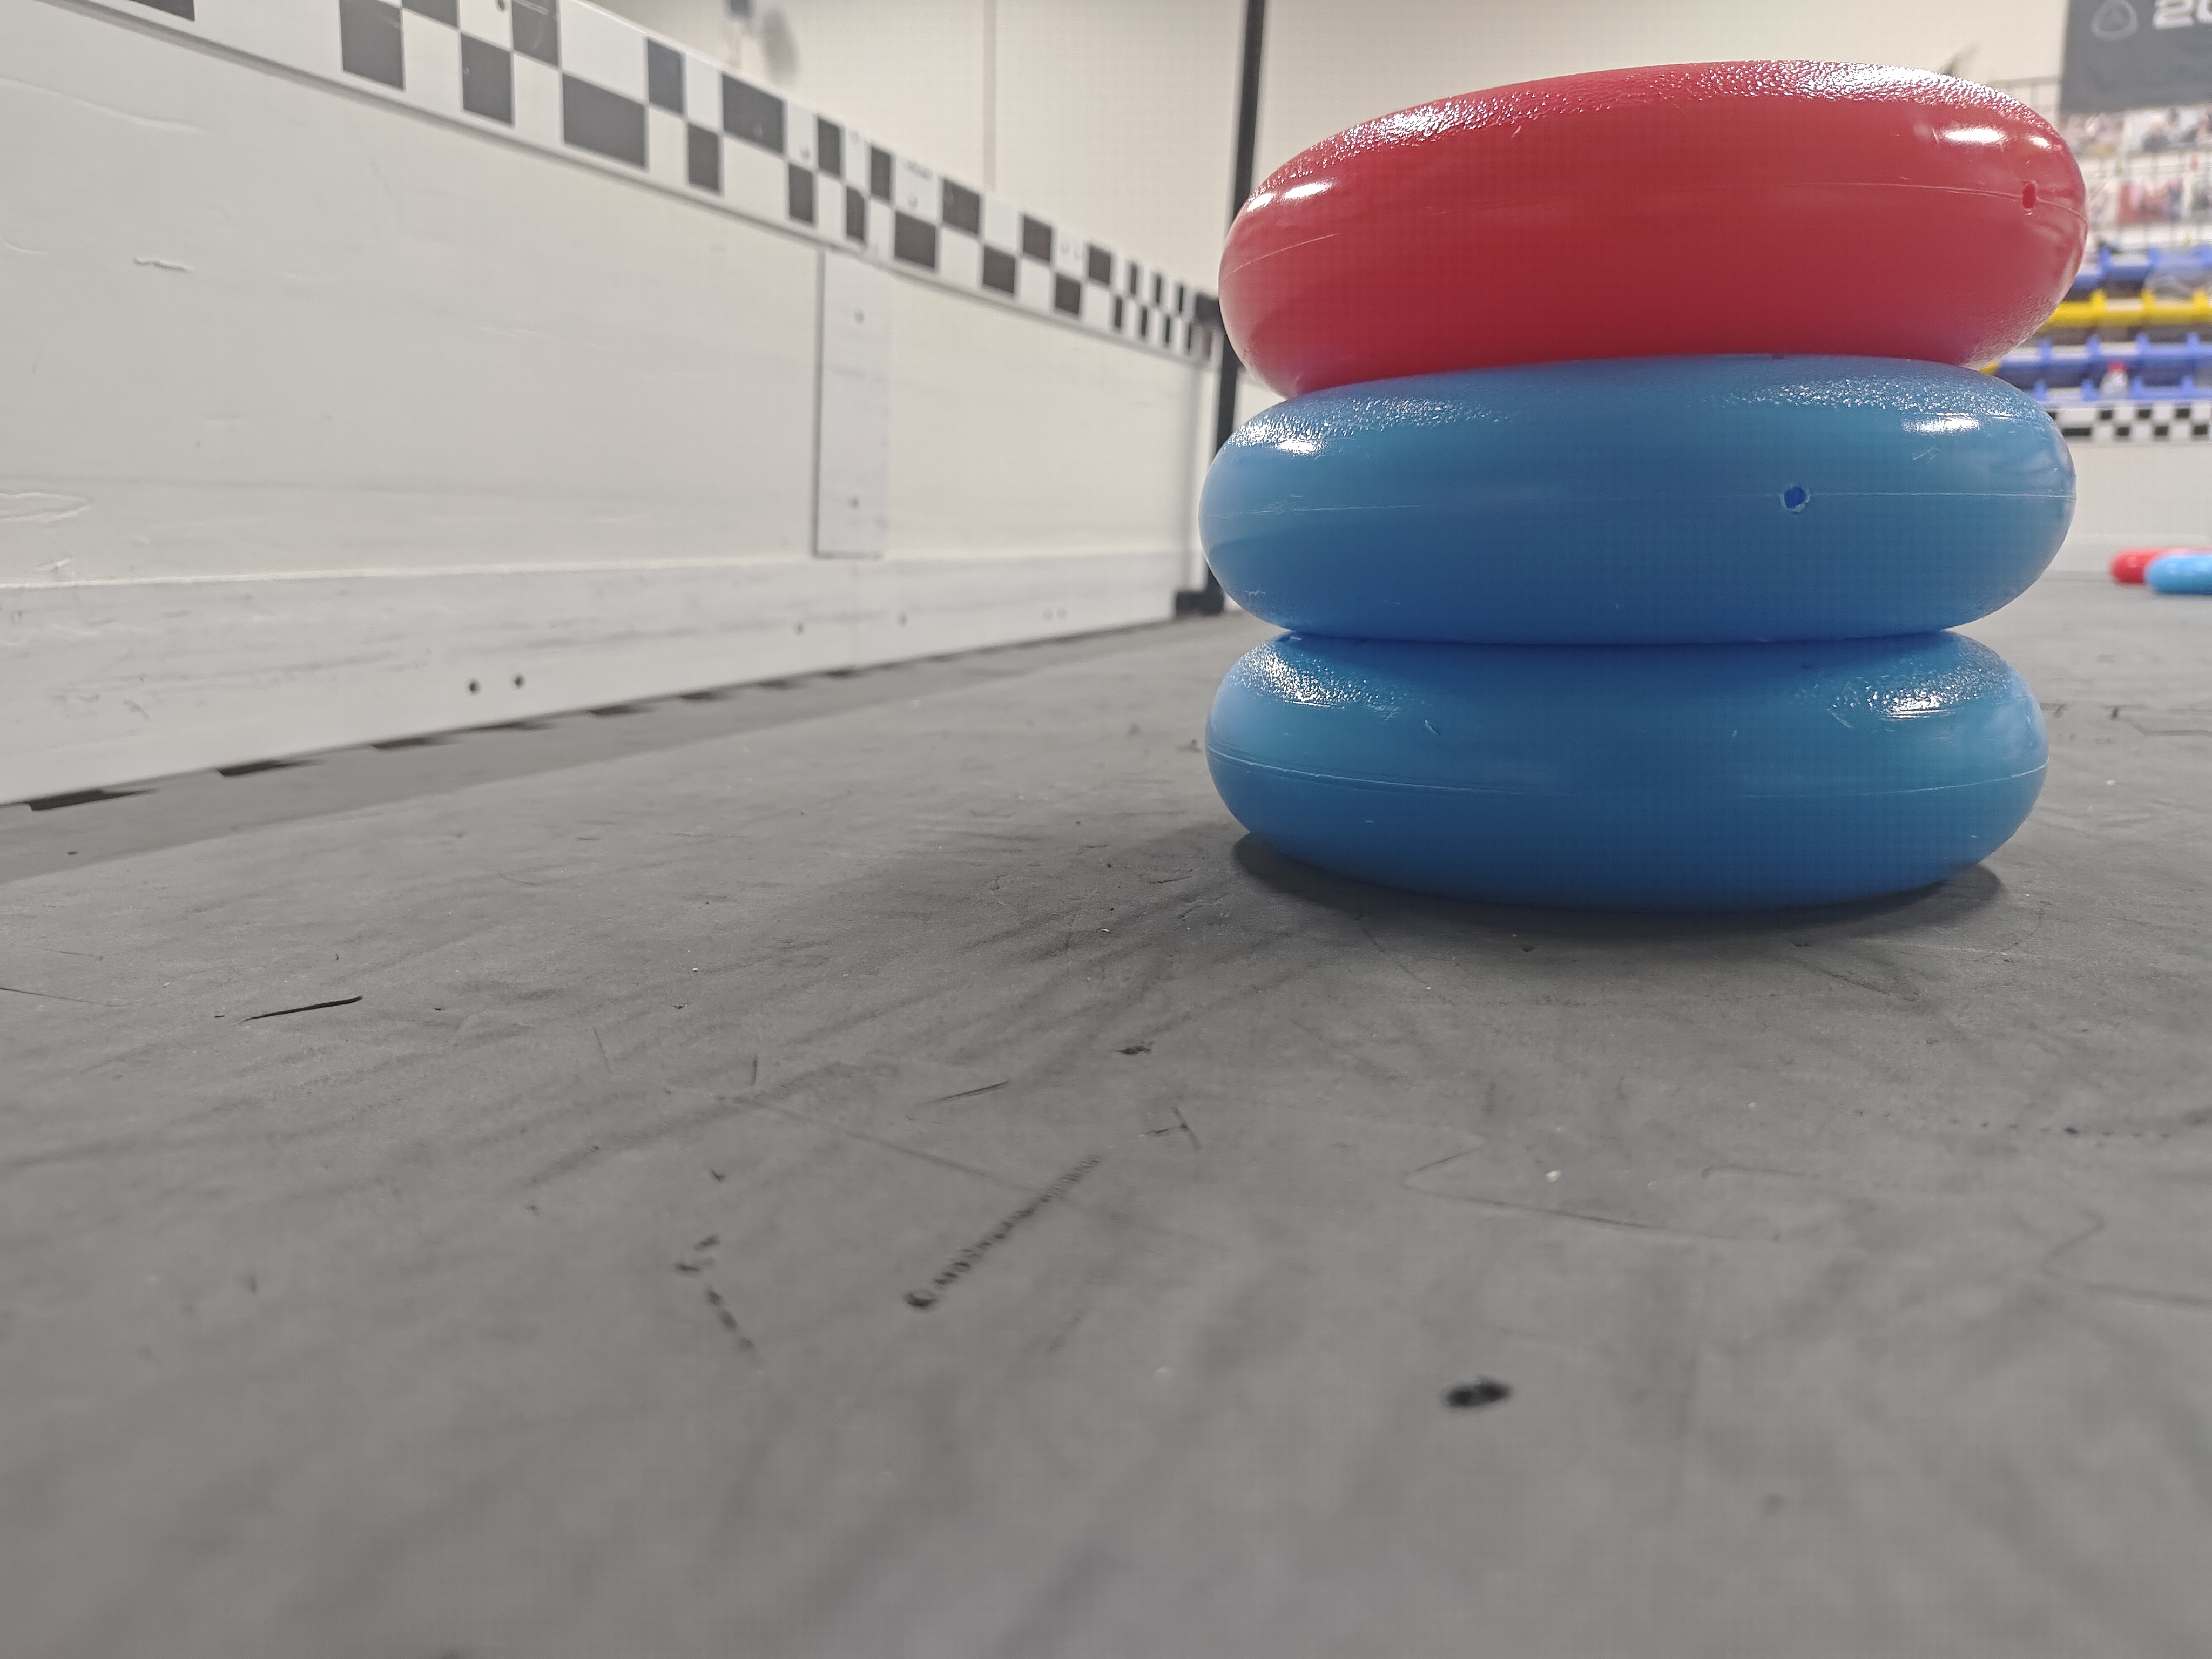blue: (1202, 627, 2045, 927), (1190, 387, 2090, 657)
red: (1205, 54, 2085, 376)
